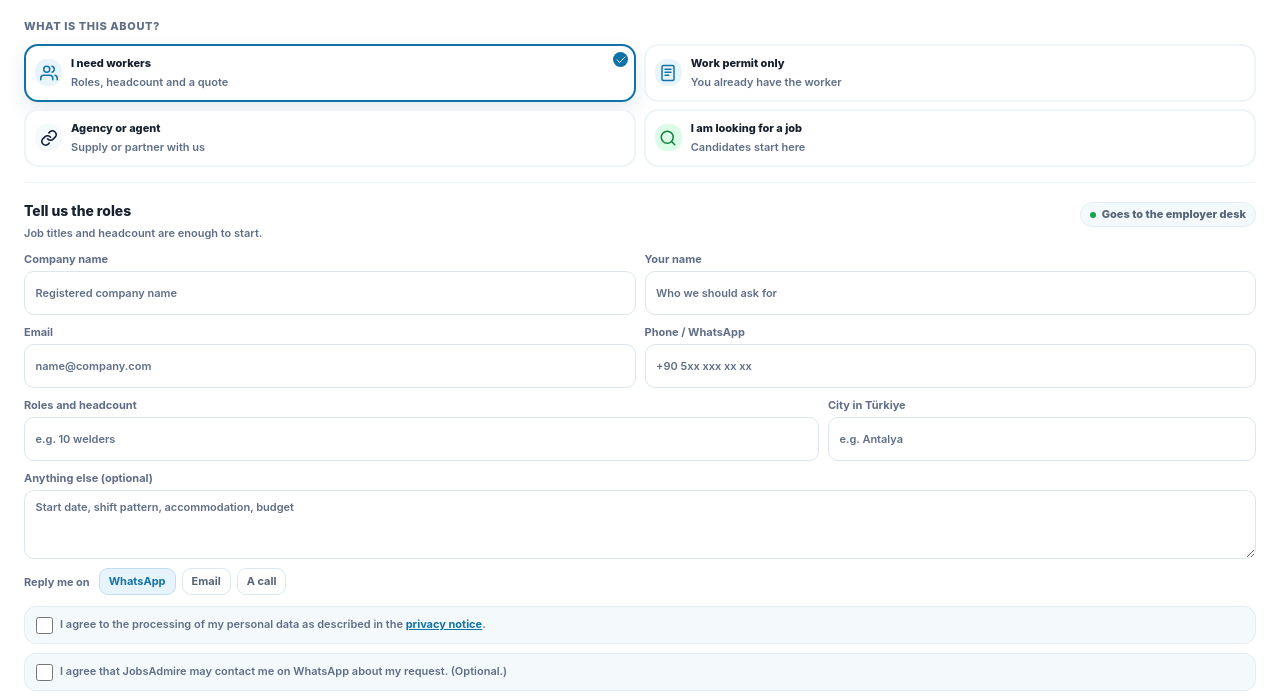
it: ContactEnquiry › the job card hides the form and shows the explainer — nothing can be filed (W3)
Click the radio button labelled "I am looking for a job Candidates start here": (746, 128) [644,109,1256,167]
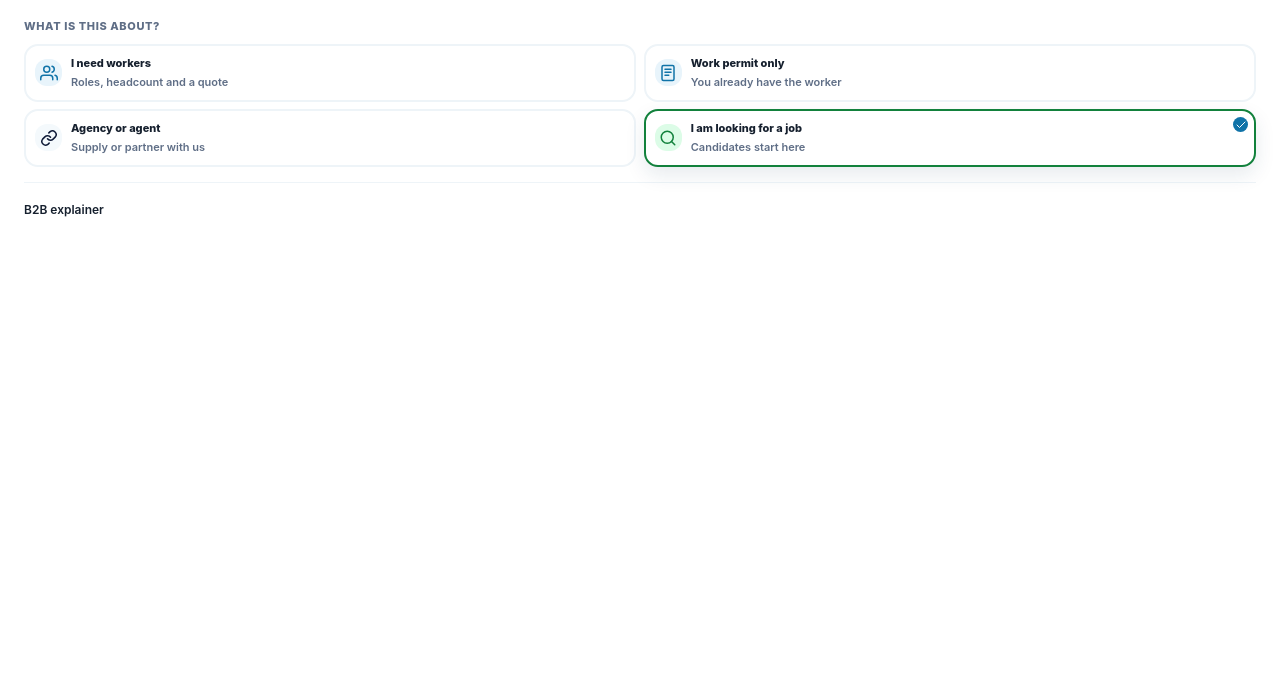
Expected: the element with test id "contact-jobseeker" reads "B2B explainer", [24,202,104,217]
